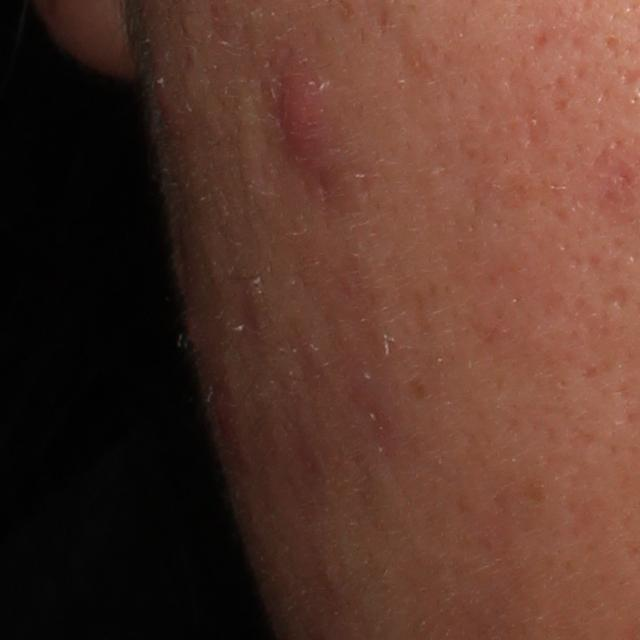atrophic_scar: (596, 279, 631, 310)
papule: (269, 60, 342, 178)
